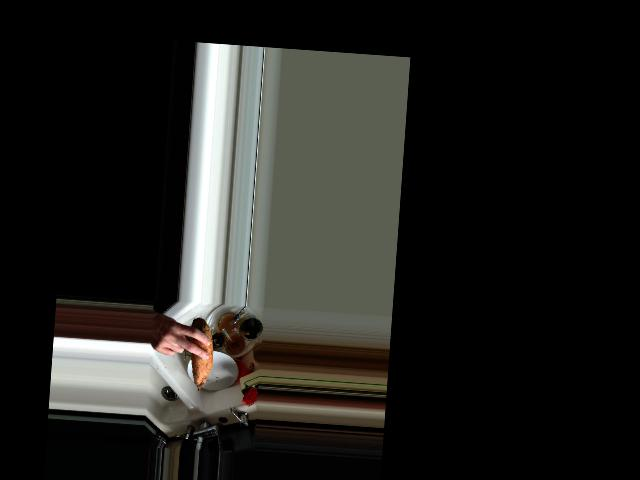sweet_potato: (182, 314, 215, 394)
